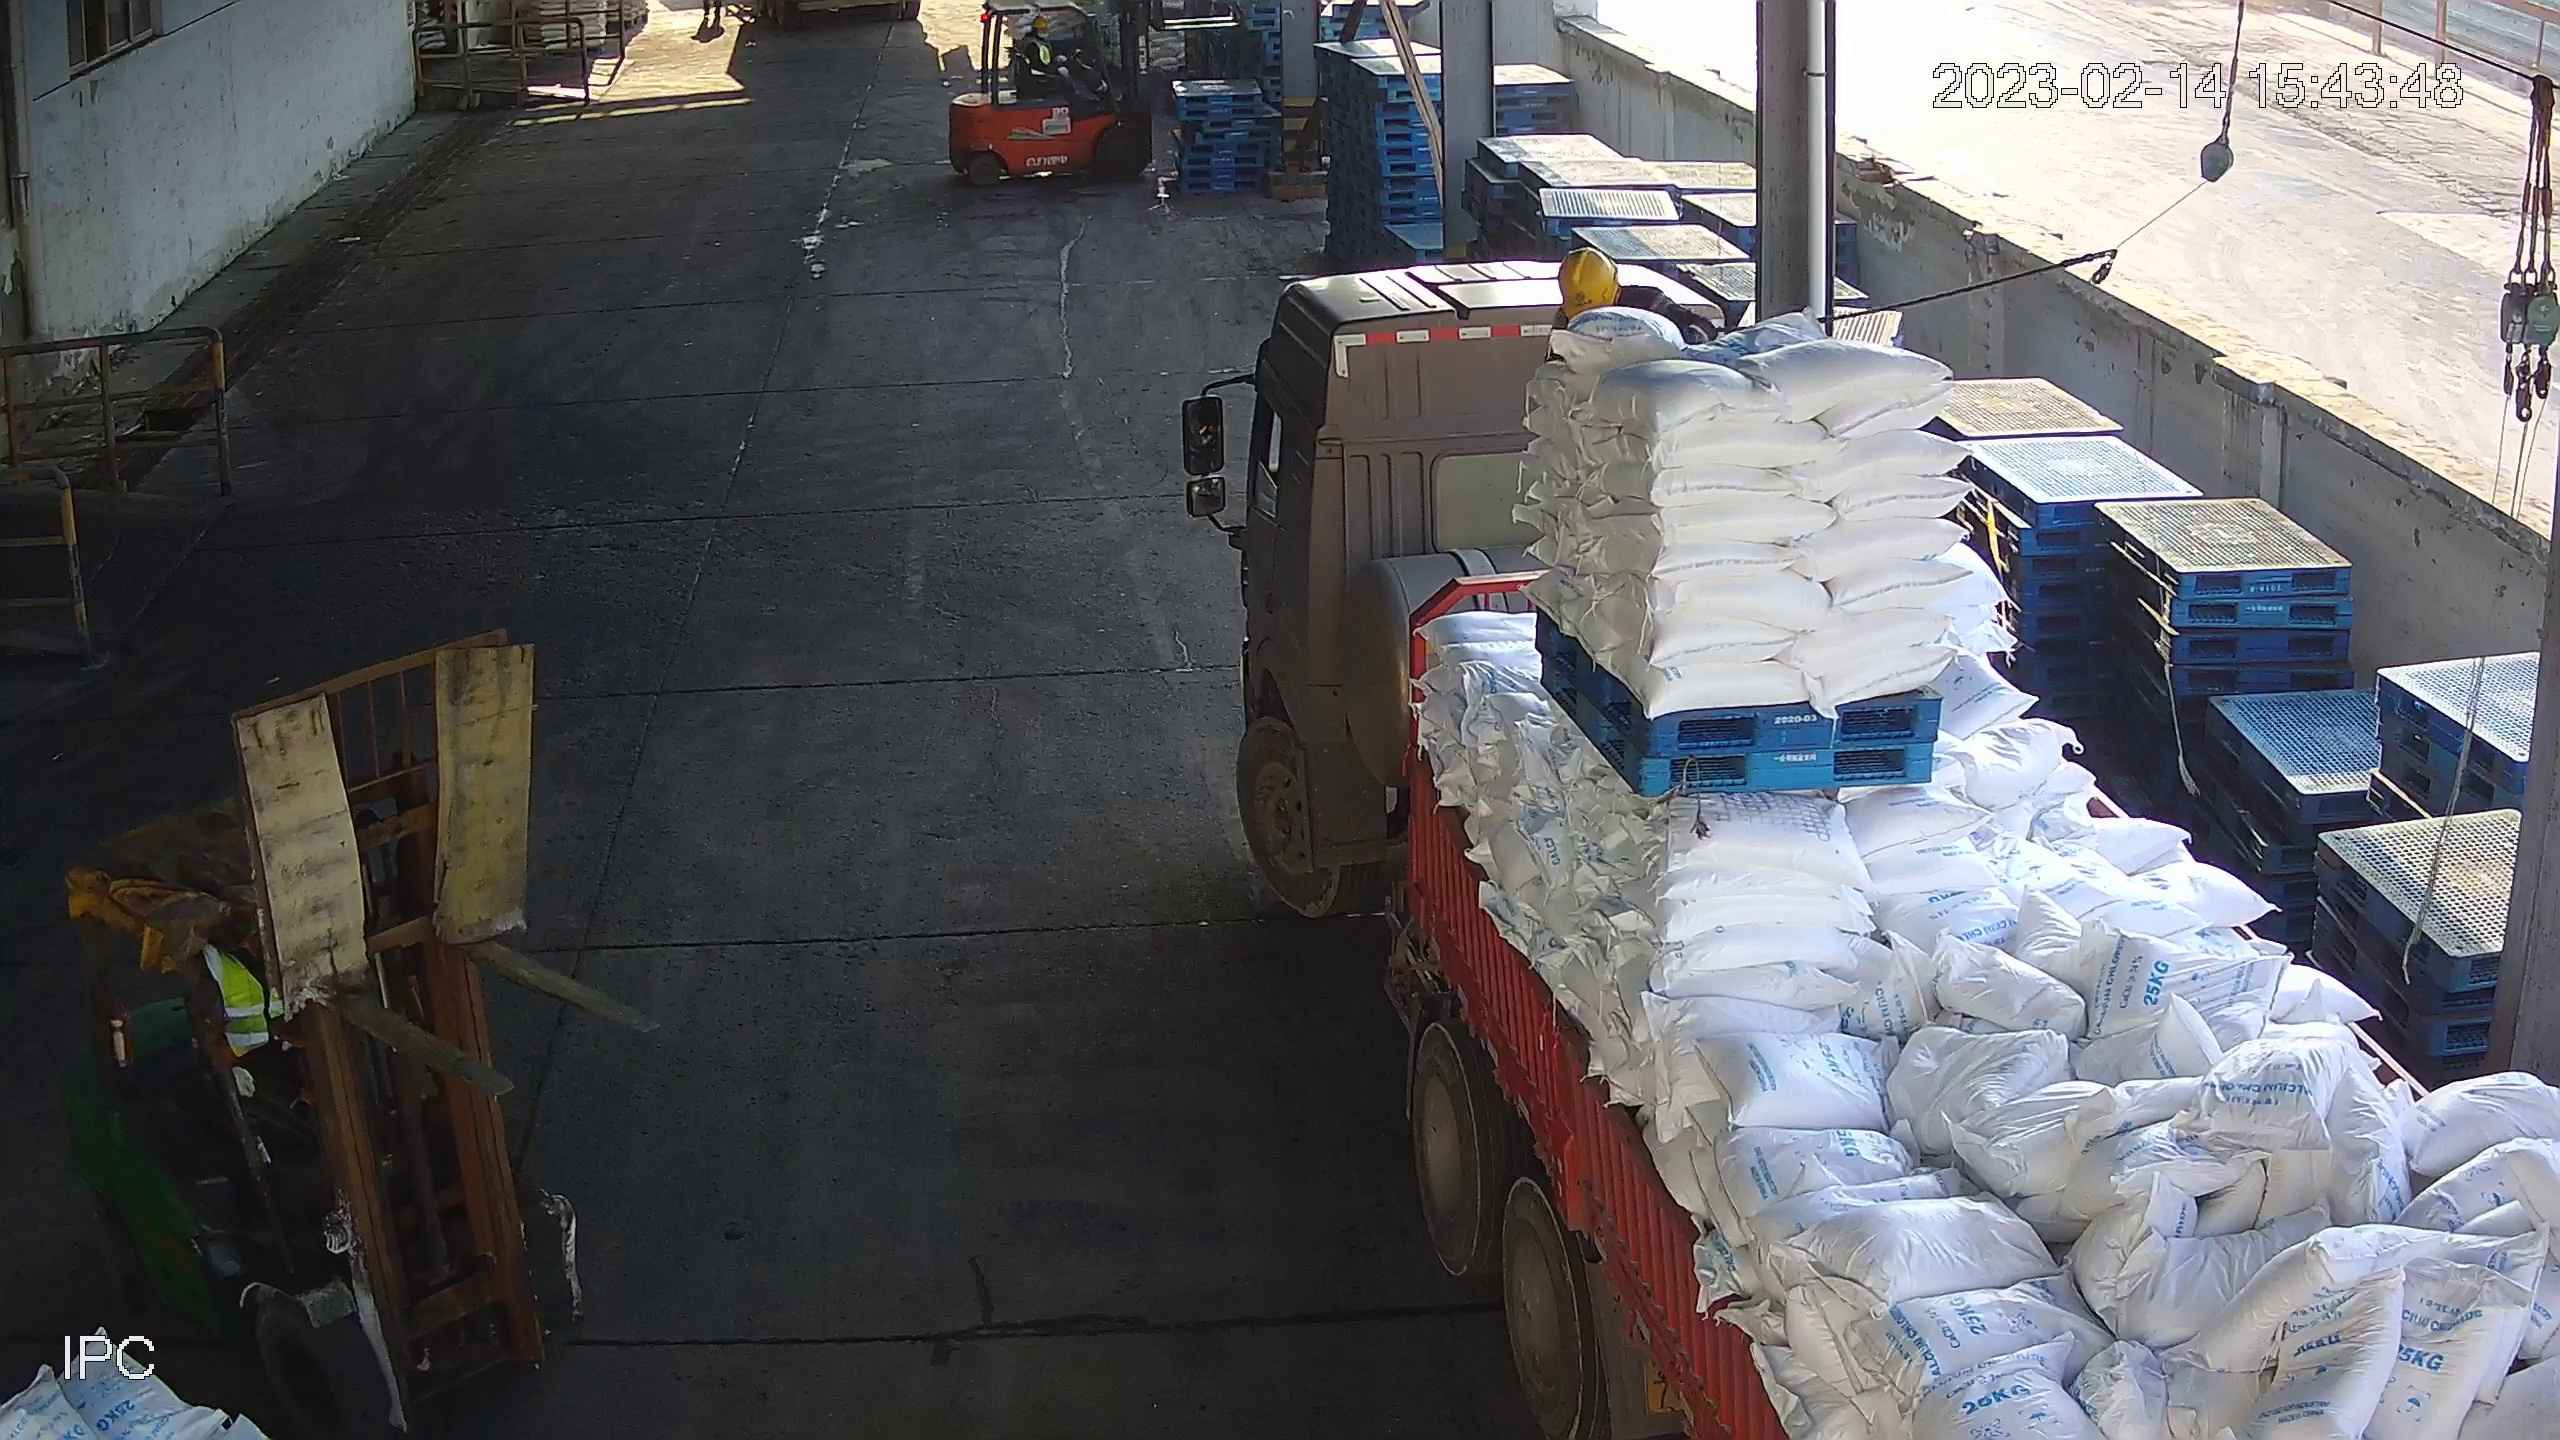head: (1026, 16, 1050, 51)
helmet: (1549, 250, 1623, 320), (1031, 16, 1048, 29)
people: (1020, 16, 1100, 110)
truck: (1176, 257, 2560, 1440)
